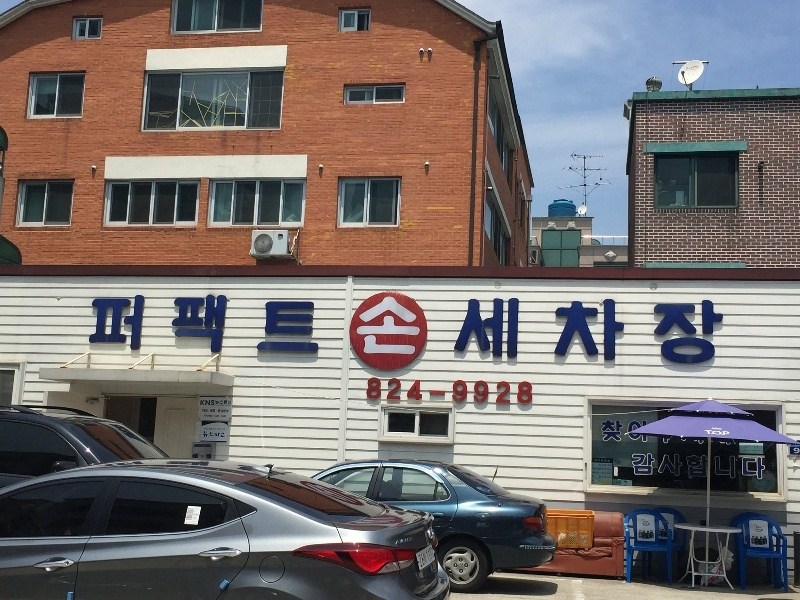text: (97, 292, 112, 367), (113, 292, 128, 367), (129, 292, 144, 367), (145, 292, 160, 367), (161, 292, 176, 367), (177, 292, 192, 367), (193, 292, 208, 367), (209, 292, 224, 367), (225, 292, 240, 367), (241, 292, 256, 367), (257, 292, 272, 367), (273, 292, 288, 367), (289, 292, 304, 367), (305, 292, 320, 367), (321, 292, 336, 367), (337, 292, 352, 367), (353, 292, 368, 367), (369, 292, 384, 367), (385, 292, 400, 367), (401, 292, 416, 367), (417, 292, 432, 367), (433, 292, 448, 367), (449, 292, 464, 367), (465, 292, 480, 367), (481, 292, 496, 367), (497, 292, 512, 367), (513, 292, 528, 367), (529, 292, 544, 367), (545, 292, 560, 367), (561, 292, 576, 367), (577, 292, 592, 367), (593, 292, 608, 367), (609, 292, 624, 367), (625, 292, 640, 367), (641, 292, 656, 367), (657, 292, 672, 367), (673, 292, 688, 367), (689, 292, 704, 367), (705, 292, 720, 367), (90, 292, 96, 367), (721, 292, 727, 367), (641, 452, 656, 478), (657, 452, 672, 478), (673, 452, 688, 478), (689, 452, 704, 478), (721, 455, 736, 481), (737, 455, 752, 481), (609, 419, 624, 444), (625, 419, 640, 444), (465, 381, 480, 405), (481, 381, 496, 405), (497, 381, 512, 405), (513, 381, 528, 405), (369, 378, 384, 401), (385, 378, 400, 401), (401, 378, 416, 401), (753, 455, 766, 481), (418, 546, 432, 569), (452, 381, 464, 405), (631, 452, 640, 478), (600, 419, 608, 444), (641, 419, 649, 444), (714, 455, 720, 481), (417, 378, 423, 401), (209, 431, 224, 438), (705, 429, 720, 436), (705, 452, 709, 478), (529, 381, 533, 405), (401, 537, 413, 545), (689, 65, 699, 73), (433, 390, 446, 396), (721, 429, 731, 436), (209, 409, 224, 413), (642, 523, 656, 527), (755, 528, 768, 532), (366, 378, 368, 401), (433, 546, 435, 569), (201, 400, 208, 406), (395, 537, 400, 545), (216, 400, 224, 405), (209, 400, 215, 406), (203, 431, 208, 438), (225, 400, 232, 405), (209, 415, 224, 417), (202, 409, 208, 413), (429, 390, 432, 396), (686, 65, 688, 73), (225, 409, 229, 413), (204, 415, 208, 417), (225, 431, 226, 438), (225, 415, 227, 417)
